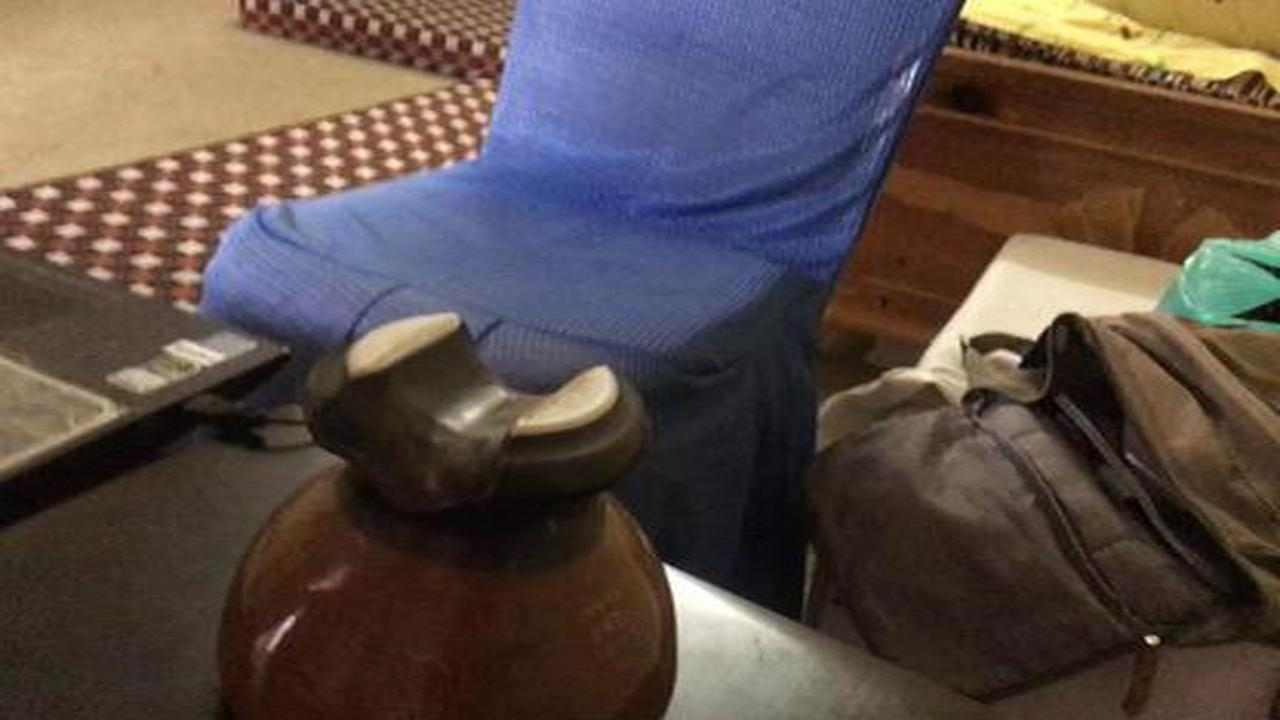insulator_pin: (210, 302, 693, 717)
